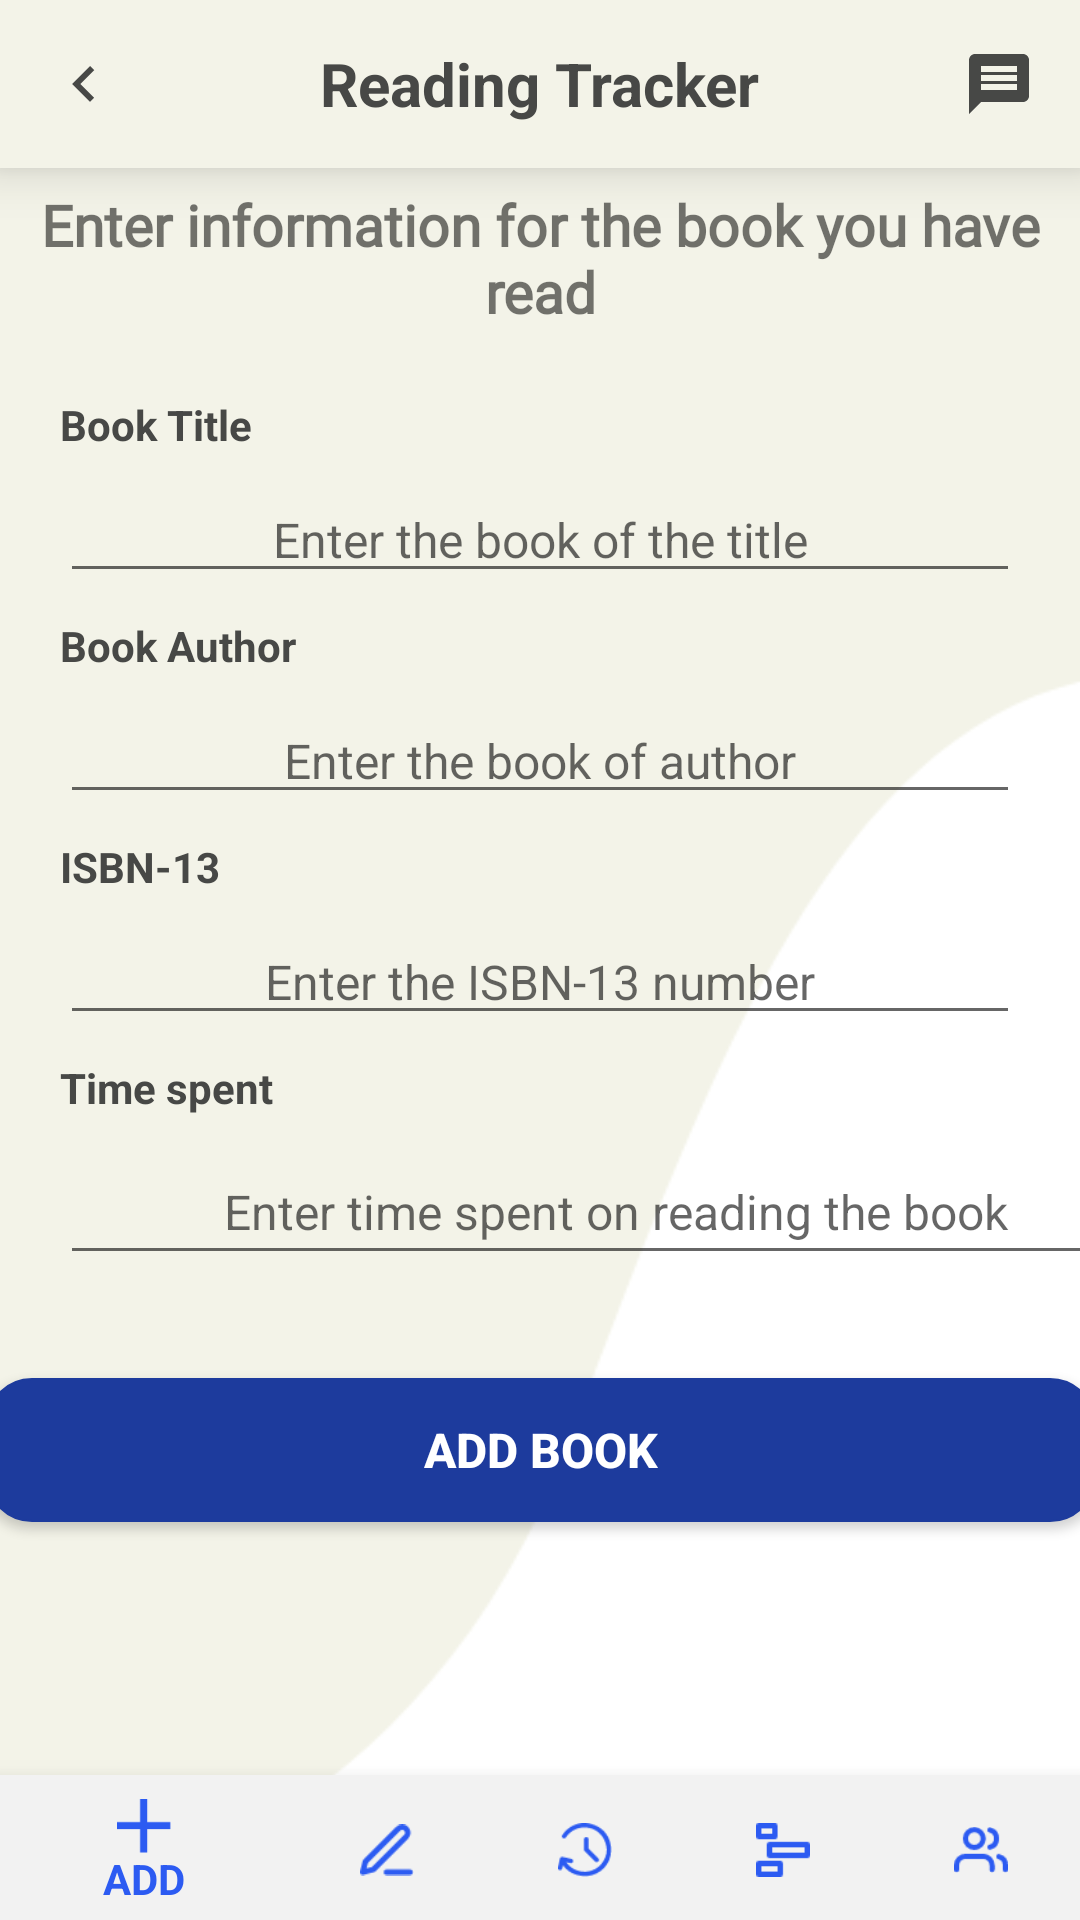

Where icons sit on this 1080 × 1920 app screen, as Rect(x1, y1, x2, y2):
arrow left: Rect(72, 66, 94, 102)
message: Rect(969, 54, 1029, 114)
